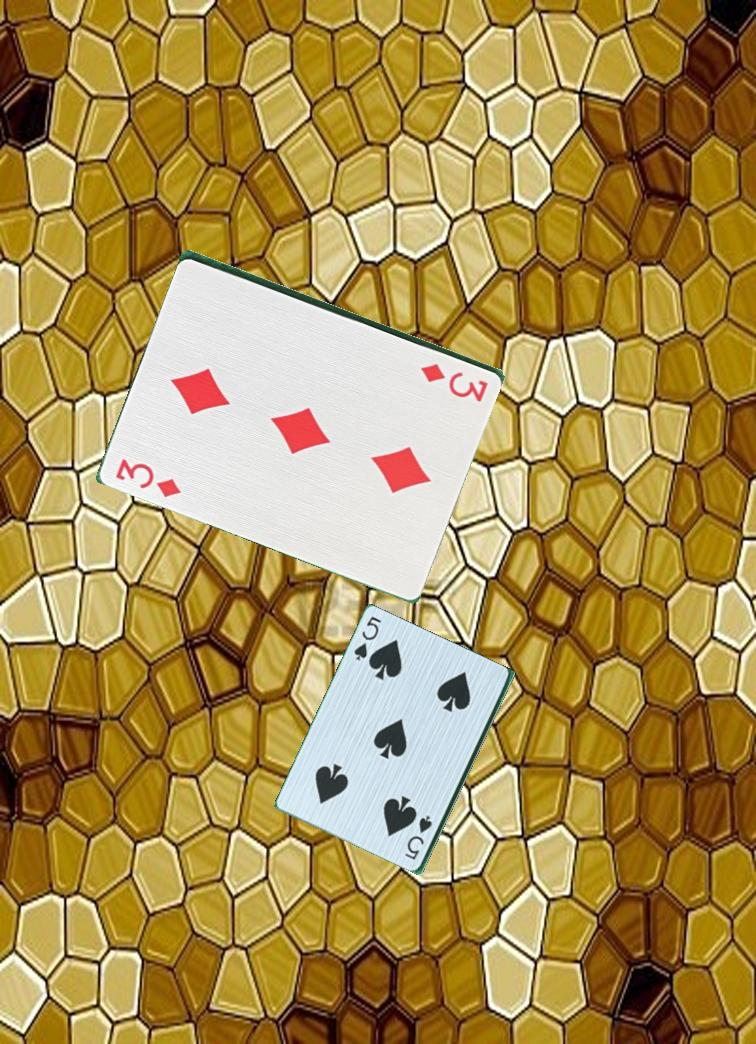3d: (112, 454, 185, 501), (417, 359, 492, 402)
5s: (351, 613, 389, 669), (402, 812, 435, 868)
